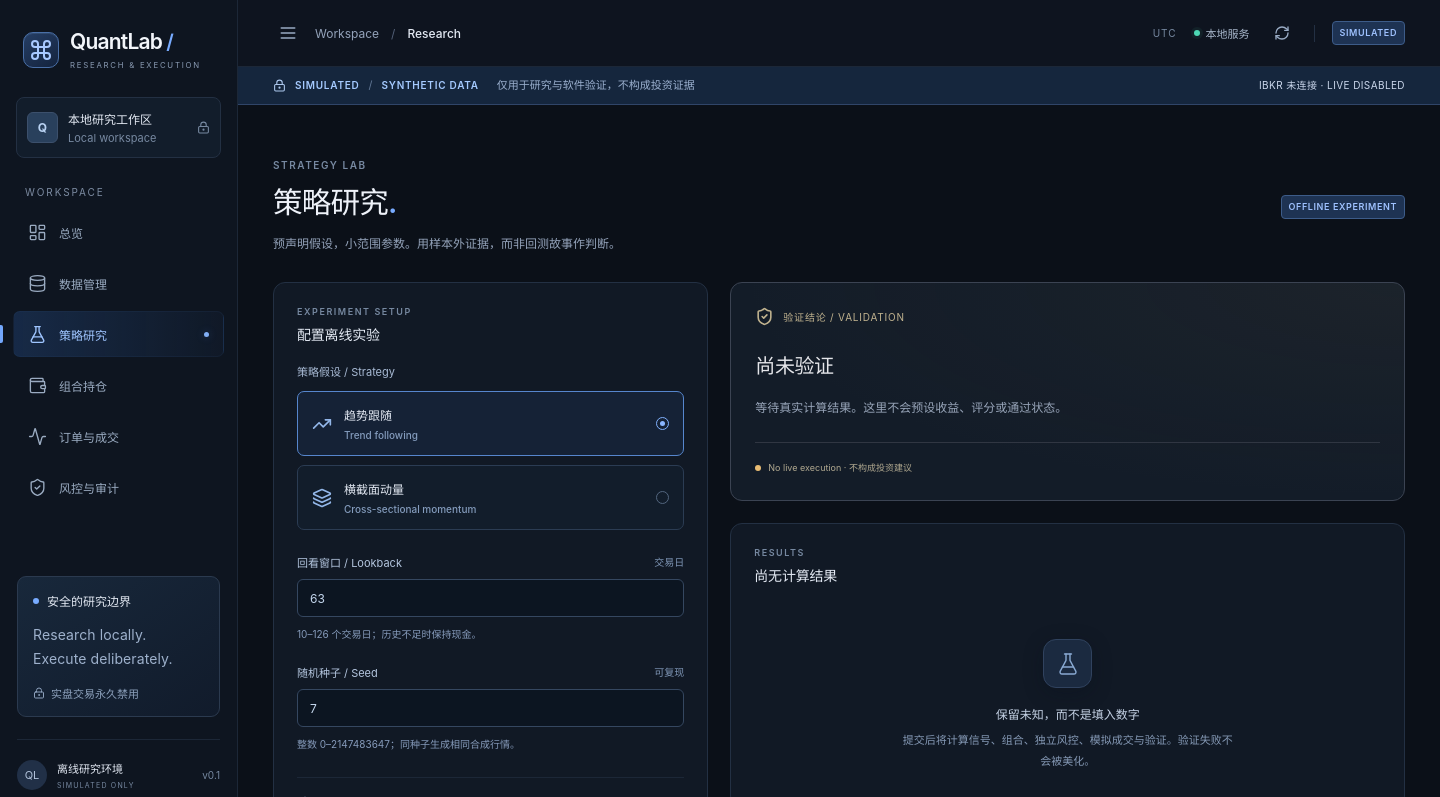
Test: bounded, explicit offline experiment › rejects invalid 回看窗口 63.5 before any POST
The image size is (1440, 797).
Replace the text in the number field labelled "回看窗口 / Lookback 交易日" with "63.5". click: x=491, y=598
box: left=297, top=579, right=684, bottom=617
(page scrolled)
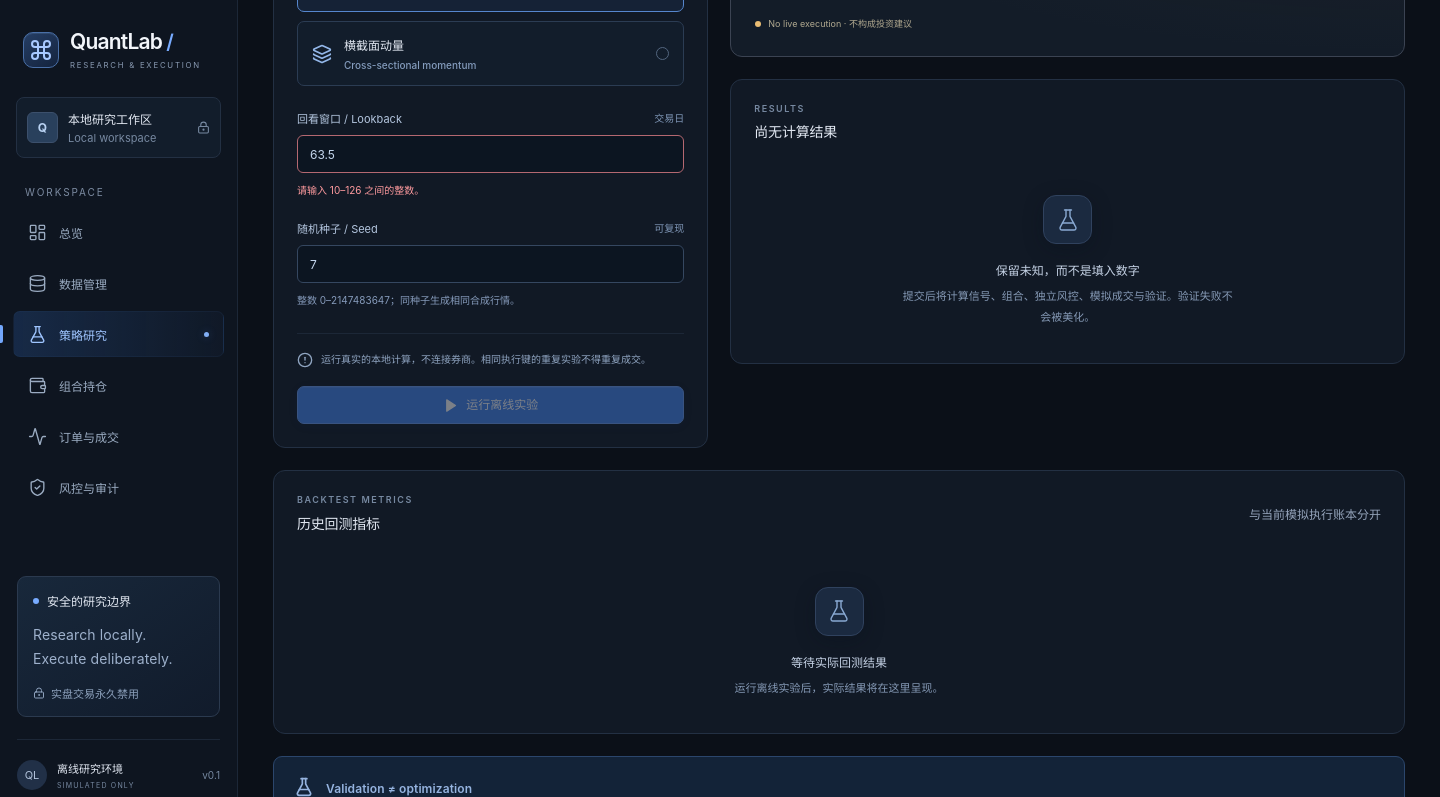
Expected: the button "运行离线实验" is disabled, left=297, top=386, right=684, bottom=424
